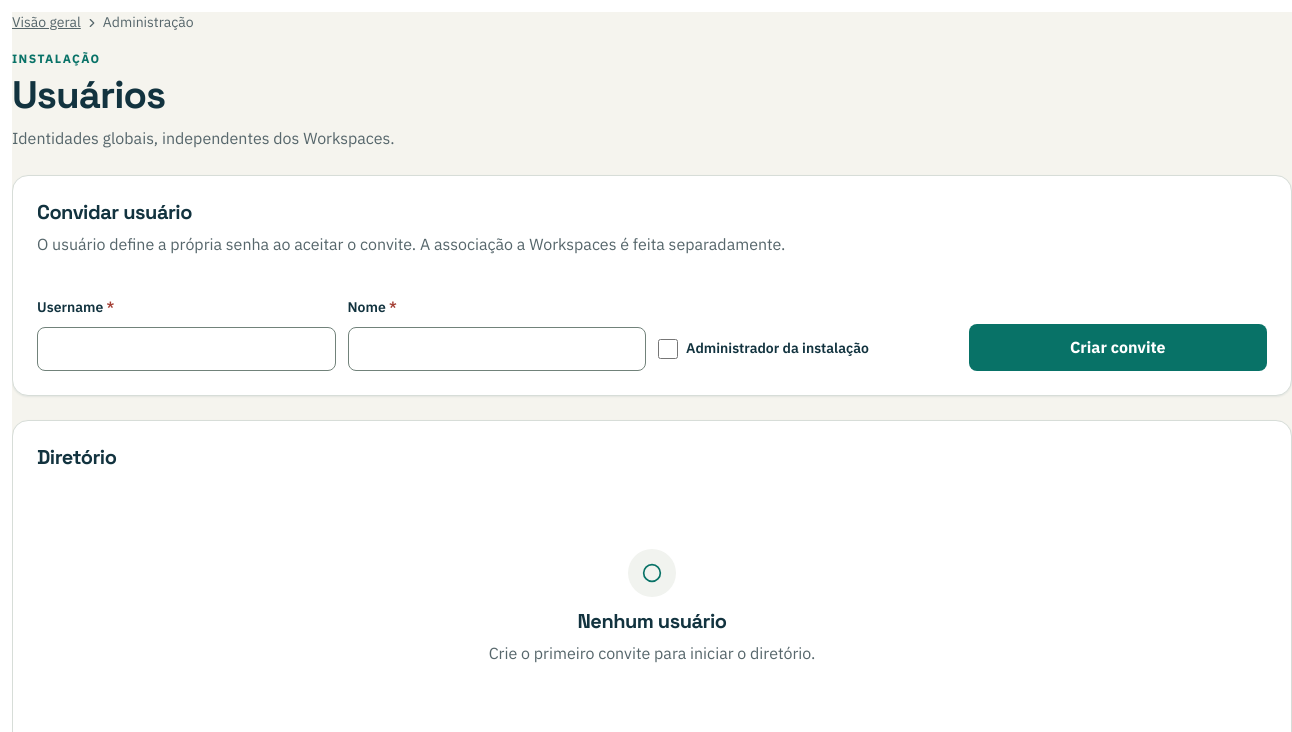
Test: installation user management › creates an invitation without asking the administrator for an initial password
Type "new.user" into the field labelled "Username". click: [186, 349]
box: [37, 327, 336, 371]
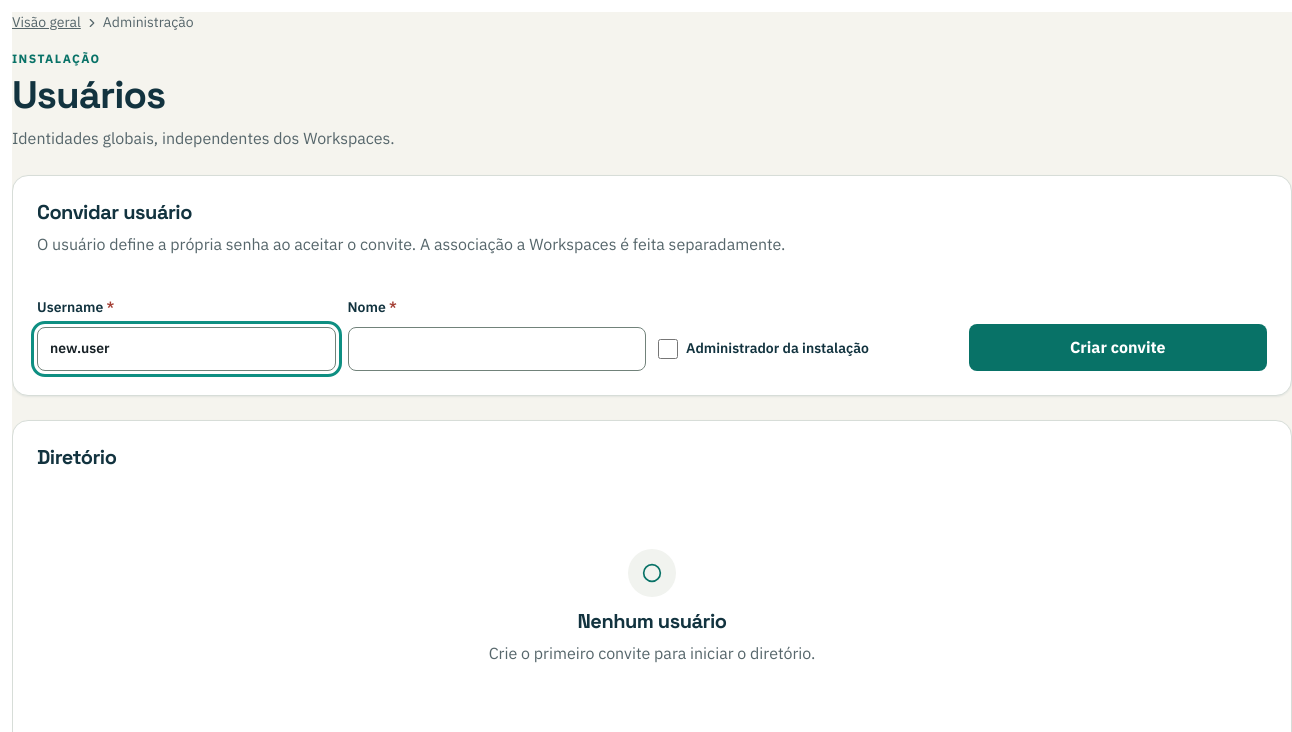
Type "New User" into the field labelled "Nome". click: [497, 349]
box: [348, 327, 646, 371]
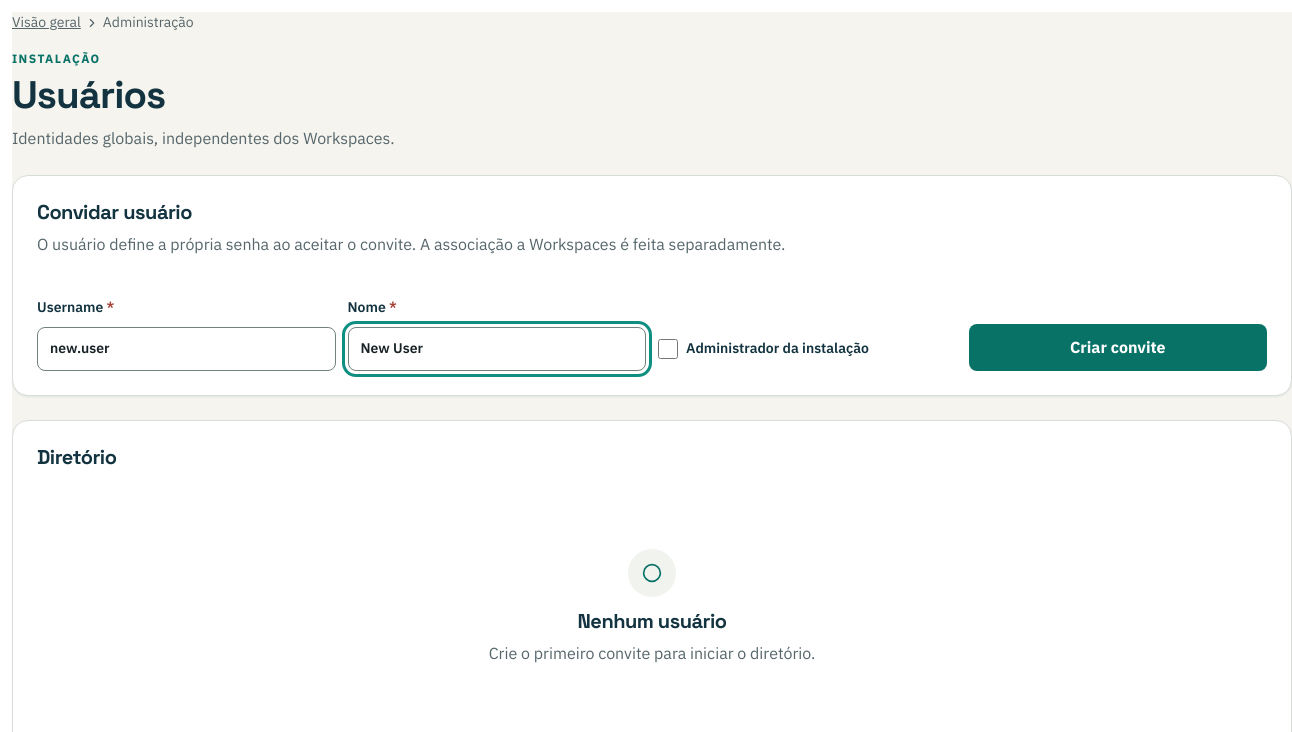
Click the button "Criar convite". click: [1118, 347]
box: [968, 324, 1267, 371]
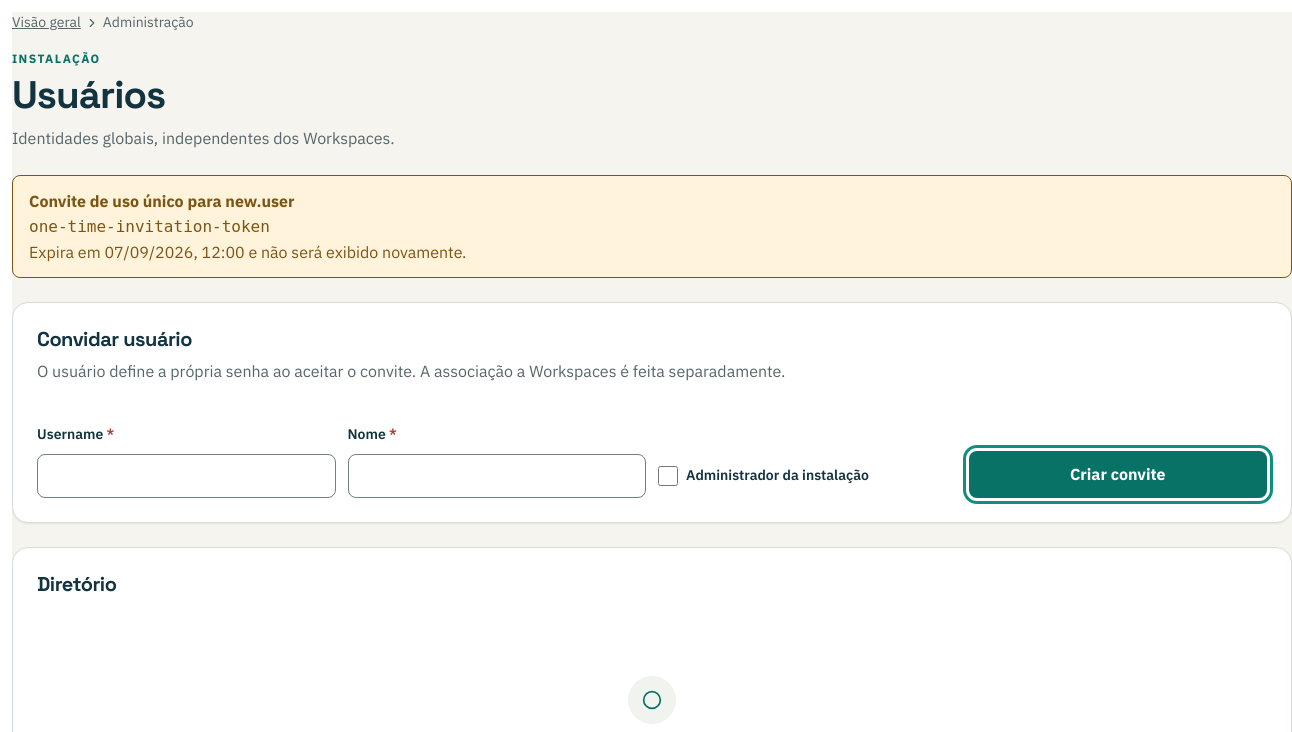
Check: the text "one-time-invitation-token" is shown, box [29, 217, 270, 236]
